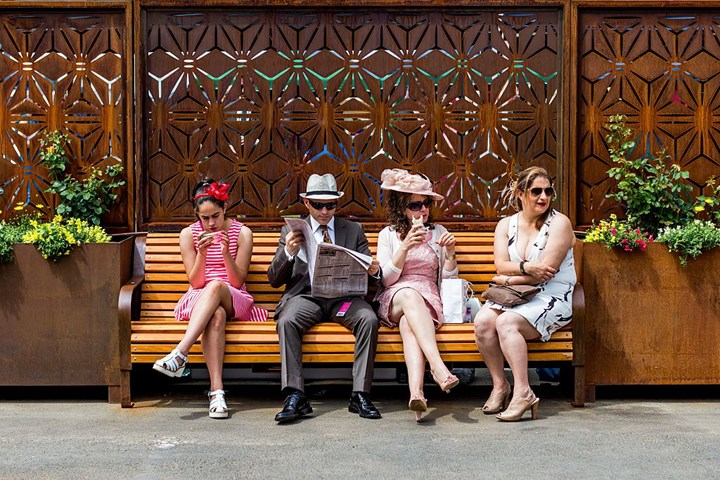Person: (268, 172, 383, 422), (153, 180, 269, 419), (474, 166, 577, 419), (377, 169, 459, 421)
